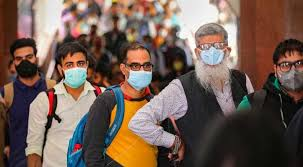Mask: (60, 64, 86, 87), (126, 66, 153, 88), (277, 64, 302, 87), (198, 48, 226, 67), (14, 60, 37, 76)
